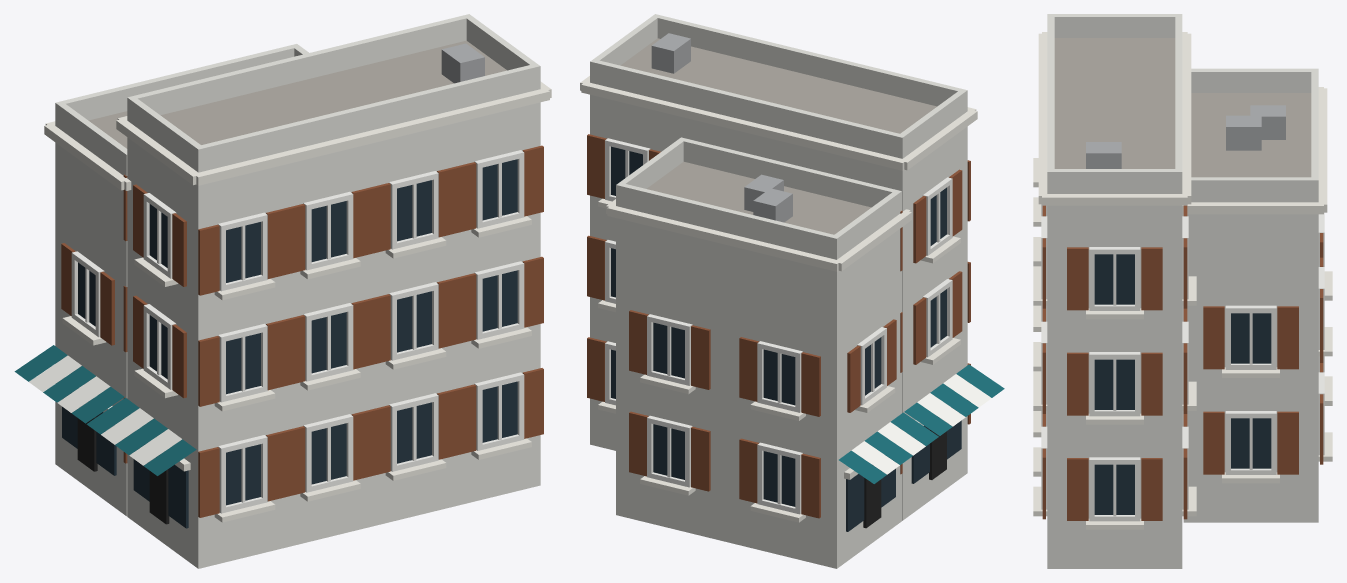
3 renders of one model, left to right at view 1: azimuth 30°, elevation 25°; view 2: azimuth 150°, elevation 25°; view 3: azimuth 270°, elevation 25°, orthographic. The views are drawn at different scales.
Visible parts, largest first — view 1: b7891; view 2: b7891; view 3: b7891.
Part boxes in pixels (<box>): b7891: <box>14,14,551,568</box>; b7891: <box>580,14,1004,568</box>; b7891: <box>1033,14,1332,568</box>.
Bounding box in the file's own units: 4847 × 4935 × 3355.
